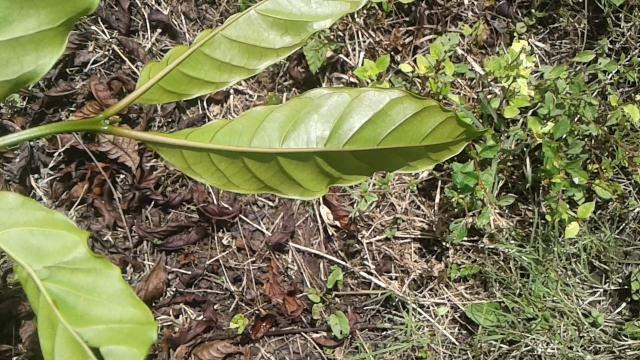healthy: (144, 84, 502, 200)
